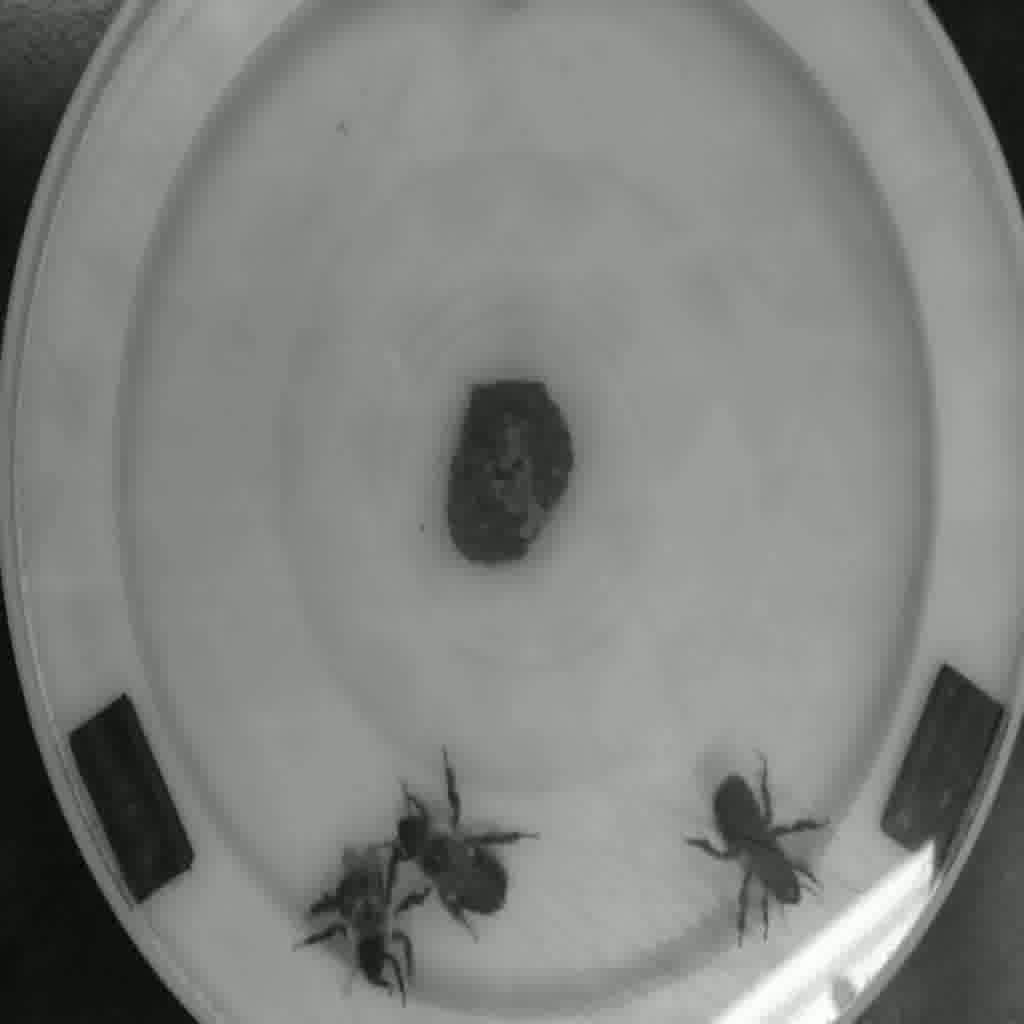bee: (385, 774, 535, 944), (671, 775, 832, 932), (284, 848, 426, 994)
